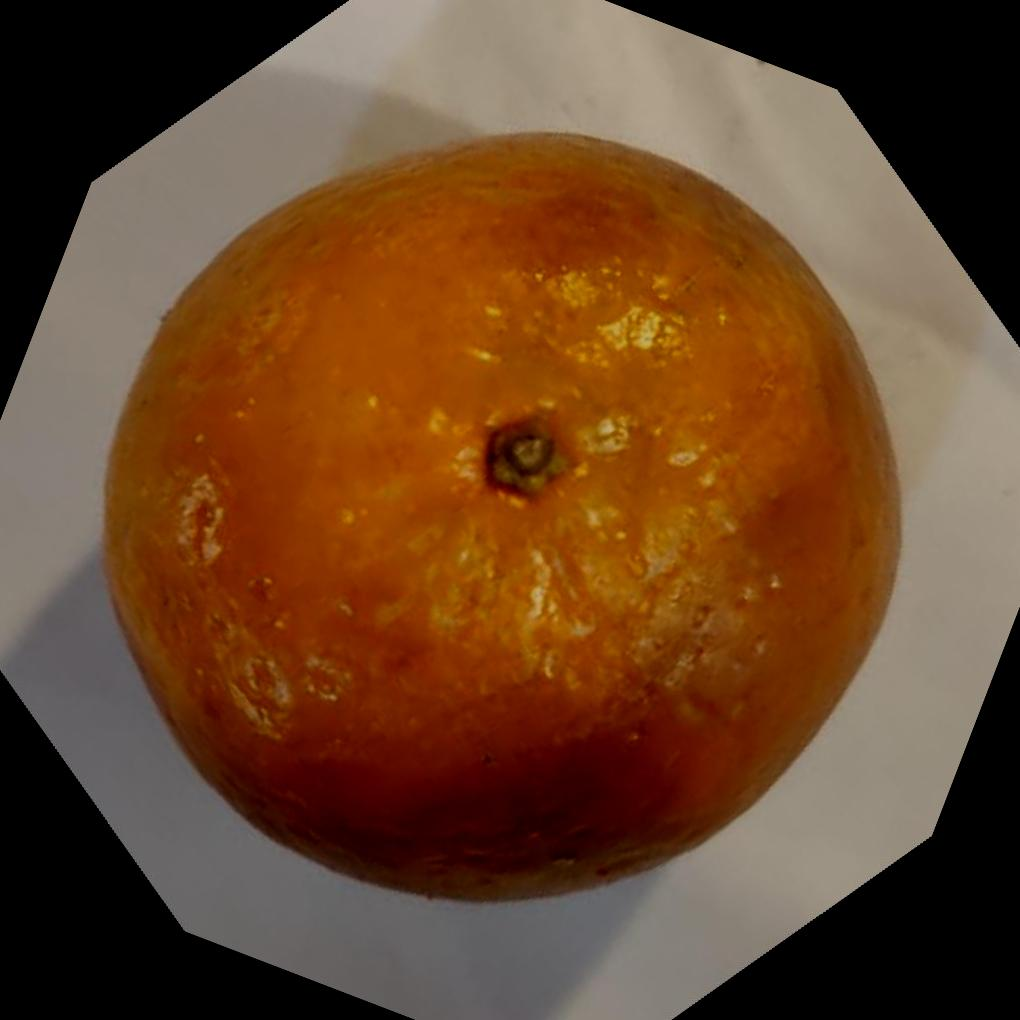FreshOrange: (95, 126, 900, 902)
